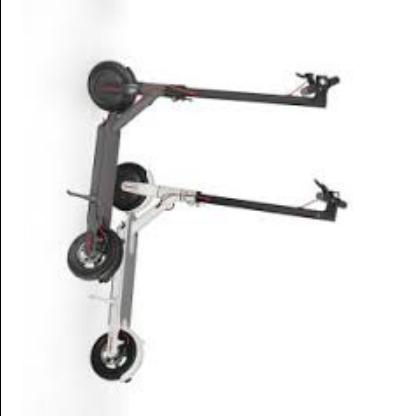bike: (66, 62, 352, 385)
